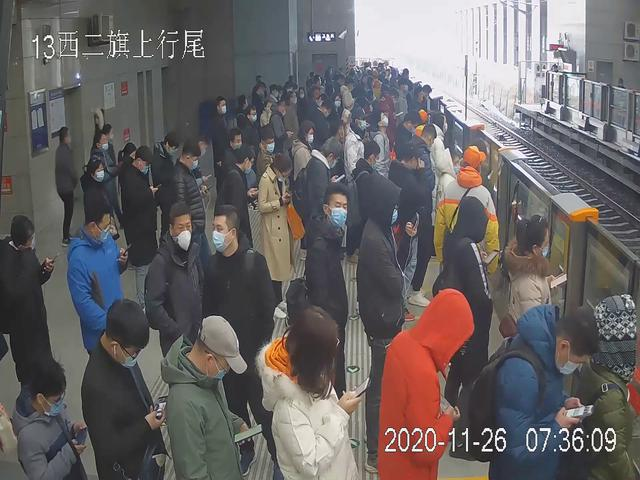person: (203, 204, 280, 478), (493, 302, 605, 480), (255, 304, 366, 480), (376, 287, 476, 480), (357, 168, 418, 474), (81, 297, 170, 480), (440, 198, 498, 459), (160, 313, 250, 480), (144, 201, 206, 407), (3, 212, 62, 423), (303, 183, 355, 420), (67, 202, 132, 364), (434, 149, 505, 293), (9, 355, 88, 480), (499, 216, 558, 377), (256, 152, 305, 318), (118, 146, 157, 310), (167, 141, 209, 276), (214, 144, 259, 259), (47, 122, 79, 248)
